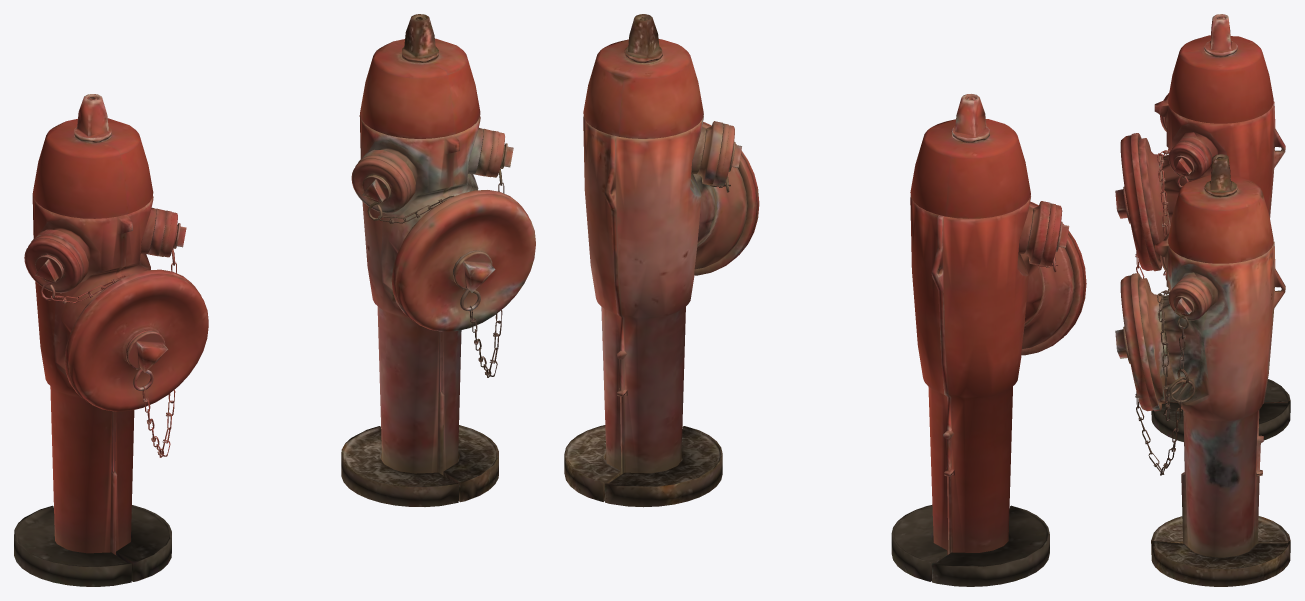
The model's file is fire_hydrant.glb.
3 renders of one model, left to right at view 1: azimuth 30°, elevation 25°; view 2: azimuth 150°, elevation 25°; view 3: azimuth 270°, elevation 25°, orthographic. The views are drawn at different scales.
Parts seen in each view (by area): view 1: fire_hydrant, fire_hydrant_aged, fire_hydrant_cap_01, fire_hydrant_cap_01_aged, fire_hydrant_cap_03, fire_hydrant_cap_03_aged, fire_hydrant_chain, fire_hydrant_chain_aged, fire_hydrant_cap_02, fire_hydrant_cap_02_aged; view 2: fire_hydrant, fire_hydrant_aged, fire_hydrant_cap_01, fire_hydrant_cap_01_aged, fire_hydrant_cap_03_aged, fire_hydrant_cap_03; view 3: fire_hydrant_aged, fire_hydrant, fire_hydrant_cap_01, fire_hydrant_cap_01_aged, fire_hydrant_chain_aged, fire_hydrant_cap_02_aged, fire_hydrant_cap_02, fire_hydrant_chain.
Part boxes in pixels (left/top/right/bottom): fire_hydrant: left=14, top=94, right=171, bottom=586; fire_hydrant_aged: left=341, top=14, right=498, bottom=506; fire_hydrant_cap_01: left=64, top=269, right=208, bottom=411; fire_hydrant_cap_01_aged: left=391, top=190, right=535, bottom=331; fire_hydrant_cap_03: left=24, top=235, right=83, bottom=293; fire_hydrant_cap_03_aged: left=351, top=155, right=410, bottom=213; fire_hydrant_chain: left=40, top=224, right=177, bottom=457; fire_hydrant_chain_aged: left=367, top=145, right=504, bottom=377; fire_hydrant_cap_02: left=158, top=210, right=186, bottom=257; fire_hydrant_cap_02_aged: left=485, top=130, right=513, bottom=177; fire_hydrant: left=891, top=94, right=1074, bottom=586; fire_hydrant_aged: left=564, top=14, right=747, bottom=507; fire_hydrant_cap_01: left=1021, top=201, right=1086, bottom=355; fire_hydrant_cap_01_aged: left=694, top=122, right=759, bottom=275; fire_hydrant_cap_03_aged: left=712, top=123, right=741, bottom=186; fire_hydrant_cap_03: left=1039, top=203, right=1069, bottom=266; fire_hydrant_aged: left=1138, top=154, right=1290, bottom=586; fire_hydrant: left=1138, top=14, right=1290, bottom=441; fire_hydrant_cap_01: left=1115, top=133, right=1161, bottom=271; fire_hydrant_cap_01_aged: left=1115, top=273, right=1161, bottom=411; fire_hydrant_chain_aged: left=1135, top=289, right=1195, bottom=475; fire_hydrant_cap_02_aged: left=1168, top=281, right=1208, bottom=320; fire_hydrant_cap_02: left=1168, top=141, right=1208, bottom=180; fire_hydrant_chain: left=1135, top=149, right=1193, bottom=280.
Size of the model in its own units: 0.8746 by 0.7994 by 0.3173.
Materials: 2 (2 with a texture image).
